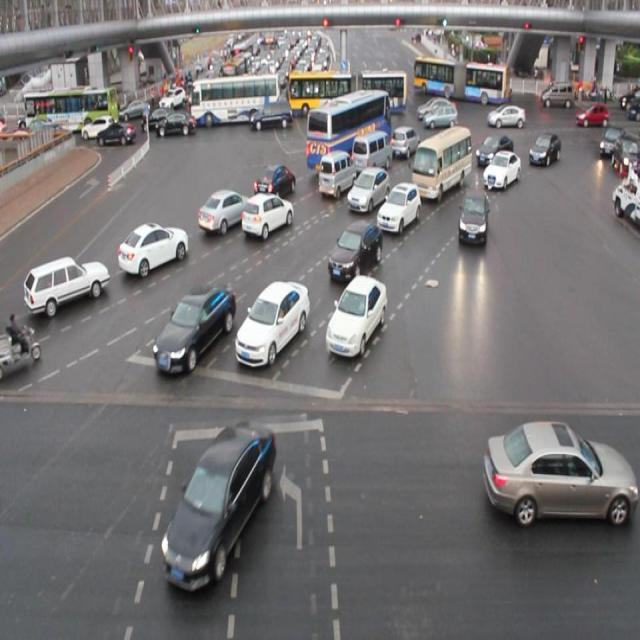car: (162, 420, 278, 586), (484, 414, 640, 528), (154, 288, 238, 375), (234, 277, 308, 370), (23, 254, 109, 318), (326, 277, 386, 361), (117, 221, 189, 276), (328, 220, 382, 280), (196, 186, 254, 235), (242, 193, 293, 237), (378, 183, 419, 232), (457, 184, 488, 246), (347, 169, 391, 211), (254, 162, 296, 203), (480, 150, 521, 191), (475, 134, 513, 166), (390, 125, 419, 161), (529, 132, 558, 168), (430, 130, 460, 164)
truck: (412, 127, 471, 199), (351, 130, 394, 178), (317, 151, 356, 196)
van: (306, 90, 392, 174)
